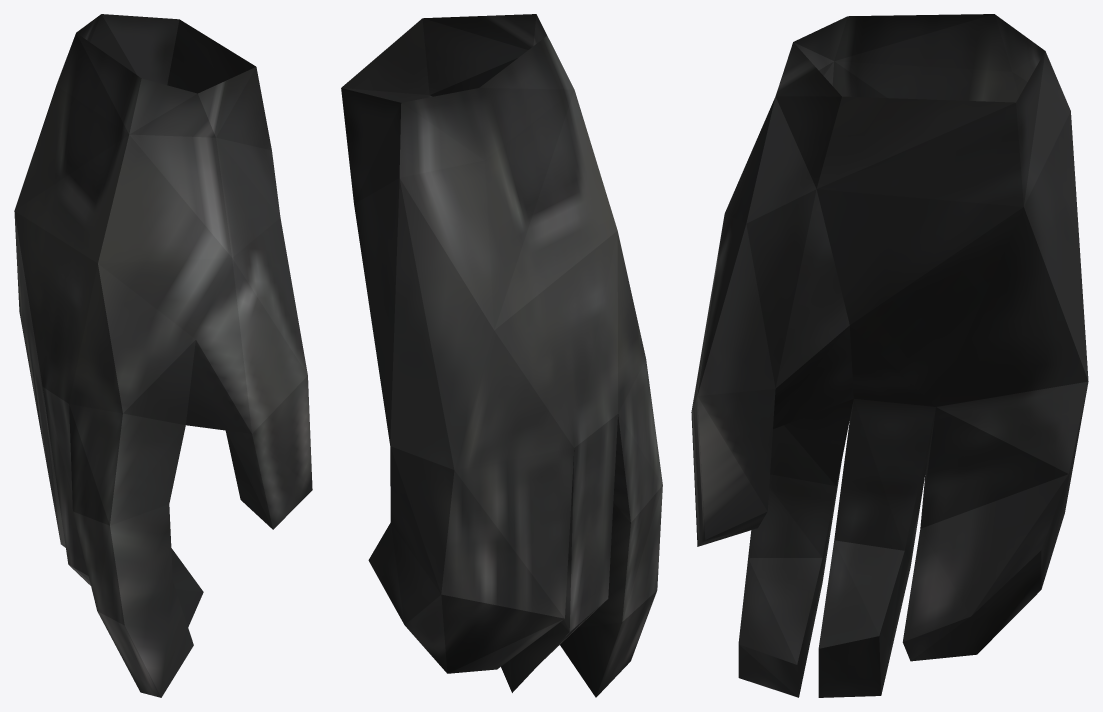
File: Pigma_brazoD.obj
3 views of the same model, side by side, from view 1: azimuth 30°, elevation 25°; view 2: azimuth 150°, elevation 25°; view 3: azimuth 270°, elevation 25° (orthographic). The views are drawn at different scales.
Bounding box in the file's own units: 0.0922 × 0.278 × 0.144.
